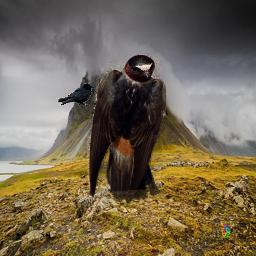Crow: (57, 83, 95, 106)
Swallow: (87, 54, 166, 205)
